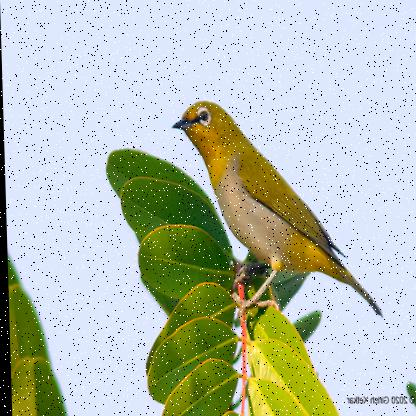Burung: (172, 101, 381, 316)
